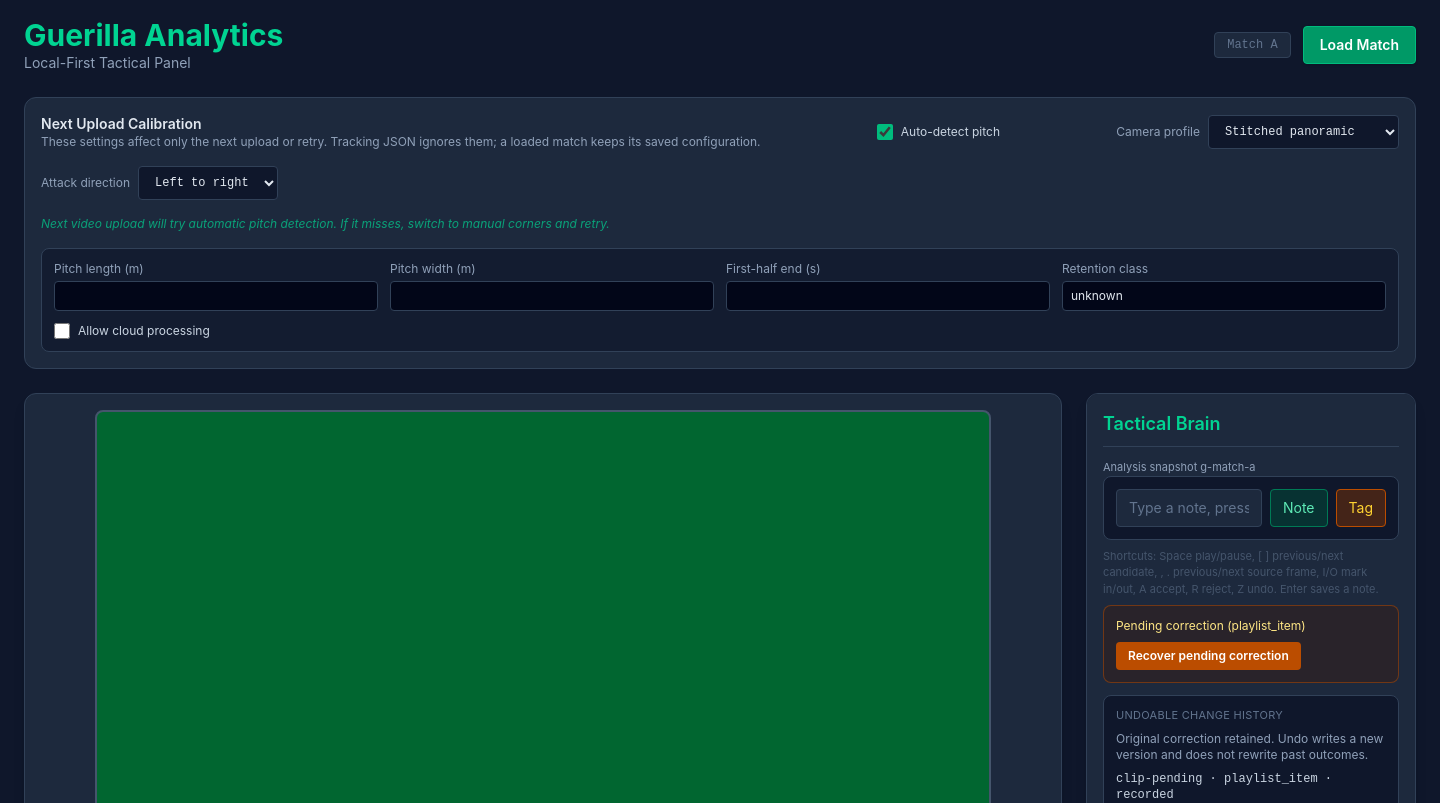
Scenario: App match workspace loading › recovers a pending playlist clip on the loaded match without rewriting the playhead
Expected: the text "Match A" is shown, [1214, 32, 1291, 58]
Click the button "Recover pending correction" at (1208, 656), box [1116, 642, 1301, 670]
(page scrolled)
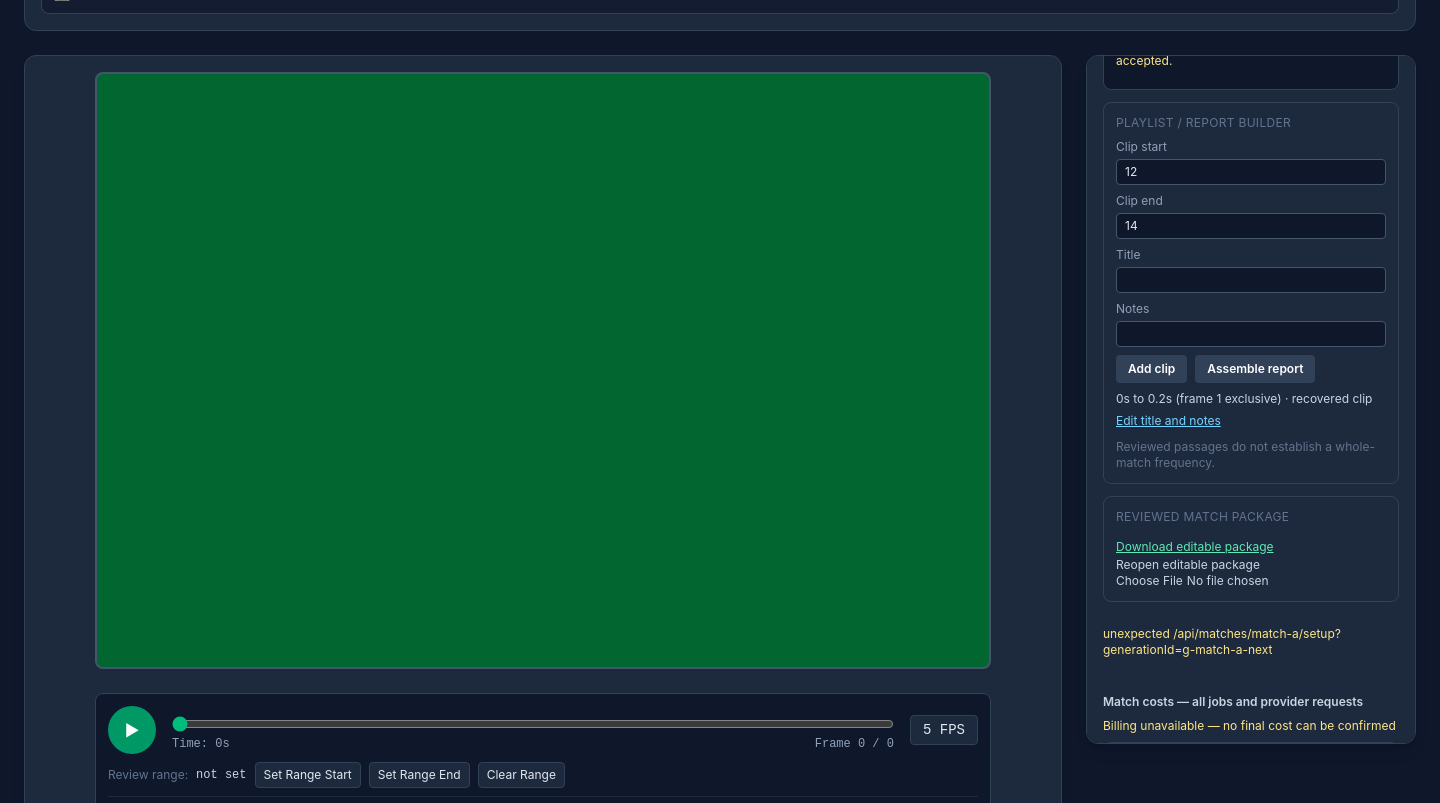
Expected: the button "0s to 0.2s (frame 1 exclusive) · recovered clip" is shown, [1116, 391, 1372, 407]
